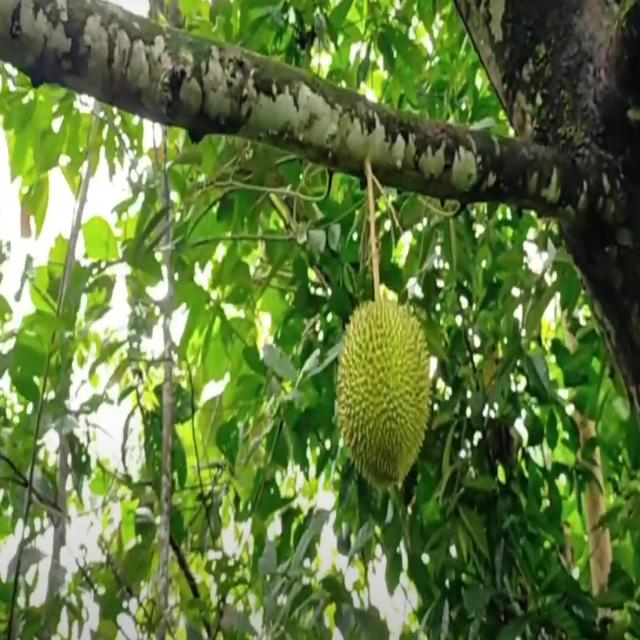immature: (337, 294, 434, 488)
